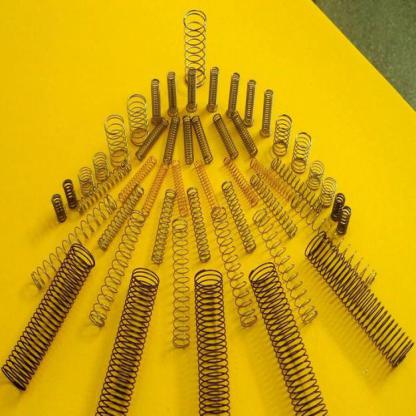FOD: (302, 231, 416, 368), (0, 239, 98, 392), (248, 260, 328, 415), (93, 263, 162, 415), (31, 192, 118, 292), (254, 204, 318, 327), (88, 207, 146, 329), (210, 204, 256, 330), (193, 268, 232, 415), (95, 181, 144, 252), (249, 172, 298, 239), (168, 214, 192, 346), (219, 176, 256, 255), (182, 6, 208, 89), (151, 185, 177, 263), (186, 184, 211, 263), (102, 110, 130, 170), (134, 116, 166, 161), (124, 91, 150, 146), (271, 111, 293, 159), (290, 128, 314, 172), (162, 113, 180, 163), (226, 68, 242, 119), (260, 86, 274, 140), (164, 69, 180, 116), (318, 173, 338, 208), (207, 63, 220, 115), (306, 157, 325, 192), (244, 76, 257, 127), (185, 63, 198, 113), (150, 76, 163, 125), (61, 176, 79, 211), (91, 149, 109, 181), (74, 165, 94, 193), (50, 192, 68, 223), (336, 202, 352, 235), (331, 192, 347, 221)
